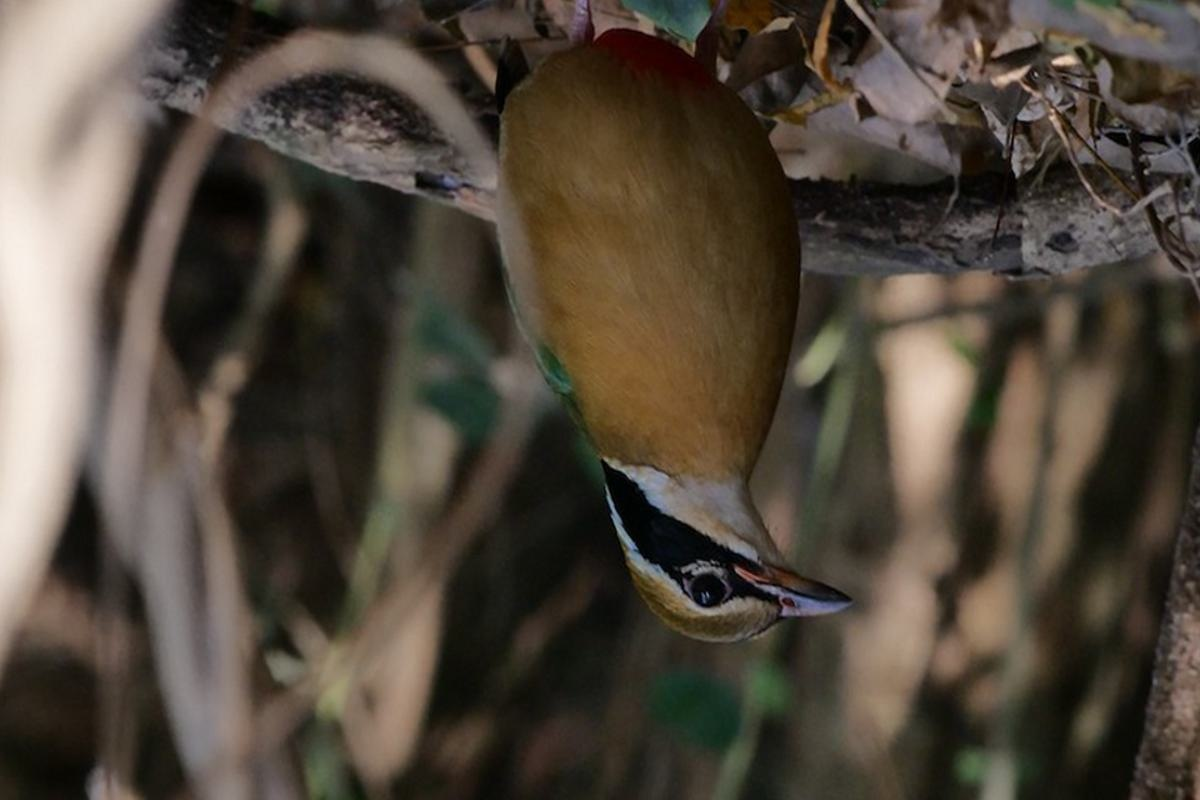pitta: (376, 8, 920, 693)
